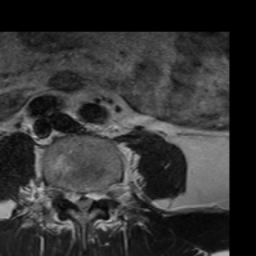CCS_stenosis: (79, 188, 87, 221)
LFS_normal: (95, 182, 105, 205)
LLS_normal: (87, 186, 96, 214)
RFS_stenosis: (62, 181, 72, 205)
RLS_normal: (72, 186, 79, 214)
